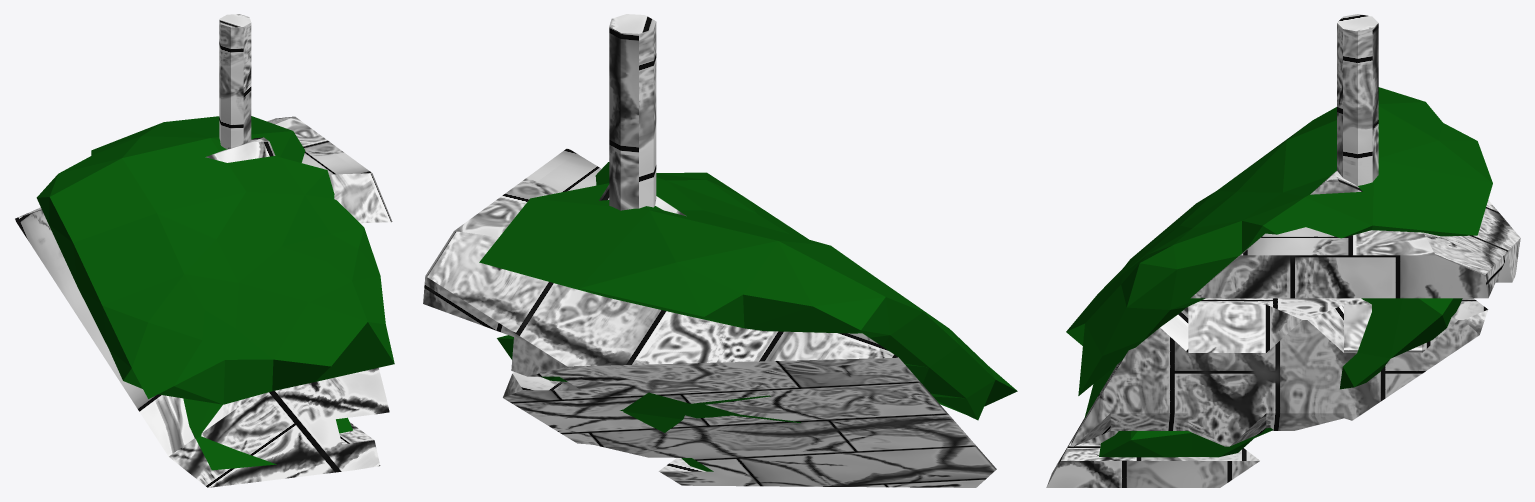
File: building_frag07.fbx
The picture shows the model from 3 angles, left to right: view 1: azimuth 30°, elevation 25°; view 2: azimuth 150°, elevation 25°; view 3: azimuth 270°, elevation 25°; orthographic projection. The views are drawn at different scales.
Visible parts, largest first — view 1: building_frag07; view 2: building_frag07; view 3: building_frag07.
Boxes of the visible parts, x1=… form: building_frag07: x1=14, y1=14, x2=394, y2=487; building_frag07: x1=423, y1=14, x2=1017, y2=487; building_frag07: x1=1046, y1=14, x2=1520, y2=487.
Bounding box in the file's own units: 279 × 328 × 312.
